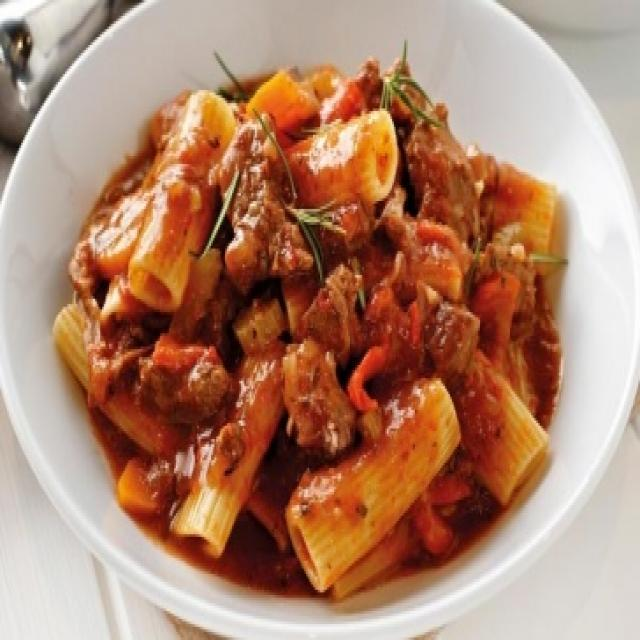Pasta al ragu: (74, 48, 586, 577)
